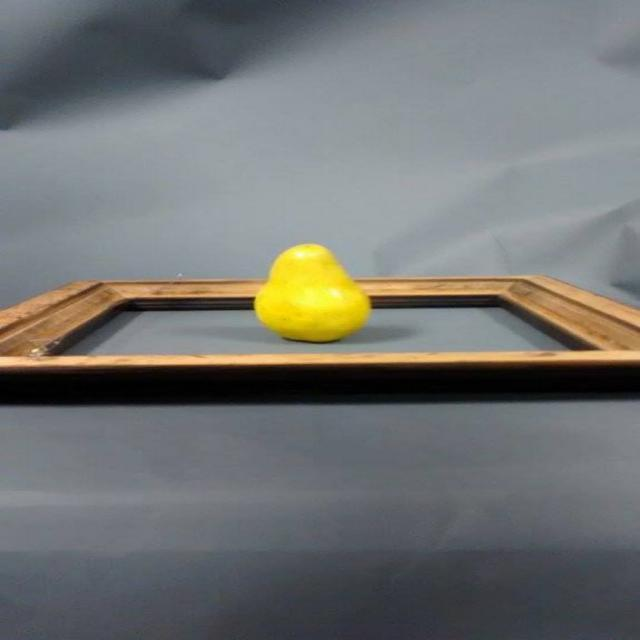Pear: (252, 239, 364, 343)
